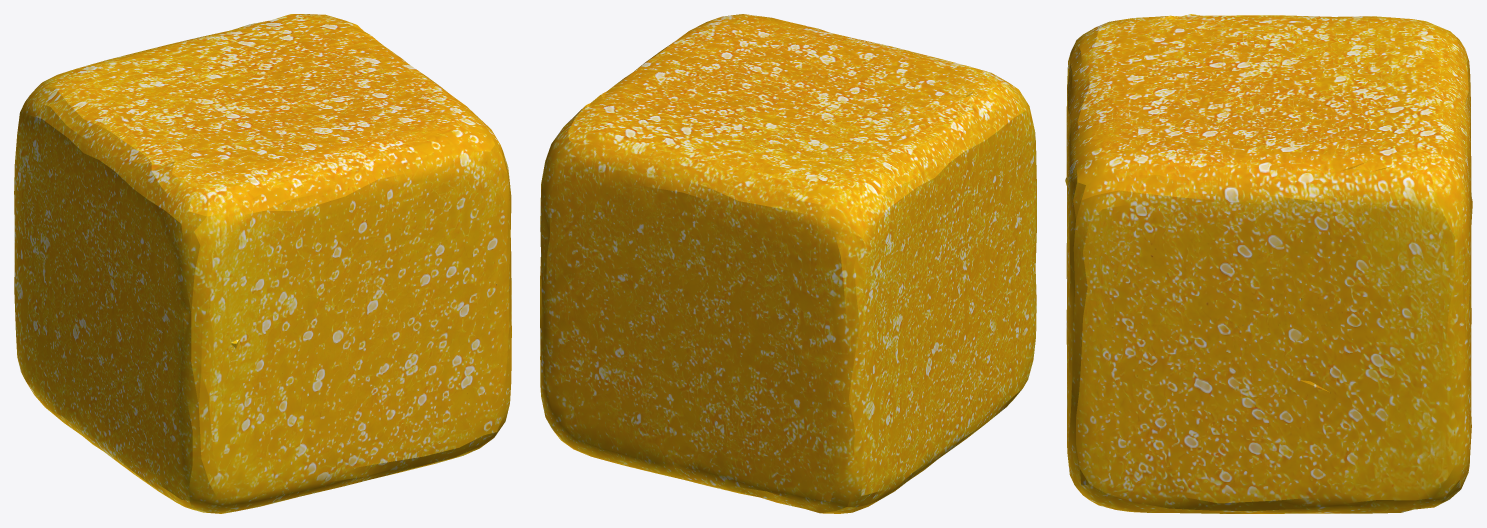
File: gummy.glb
3 renders of one model, left to right at view 1: azimuth 30°, elevation 25°; view 2: azimuth 150°, elevation 25°; view 3: azimuth 270°, elevation 25°, orthographic. The views are drawn at different scales.
Parts seen in each view (by area): view 1: Mesh; view 2: Mesh; view 3: Mesh.
Part boxes in pixels (x1,y1,x2,y2): Mesh: (14,14,511,513); Mesh: (540,14,1036,513); Mesh: (1065,14,1472,513).
Bounding box in the file's own units: 1.81 × 1.77 × 1.83.
1 material, 1 textured.
